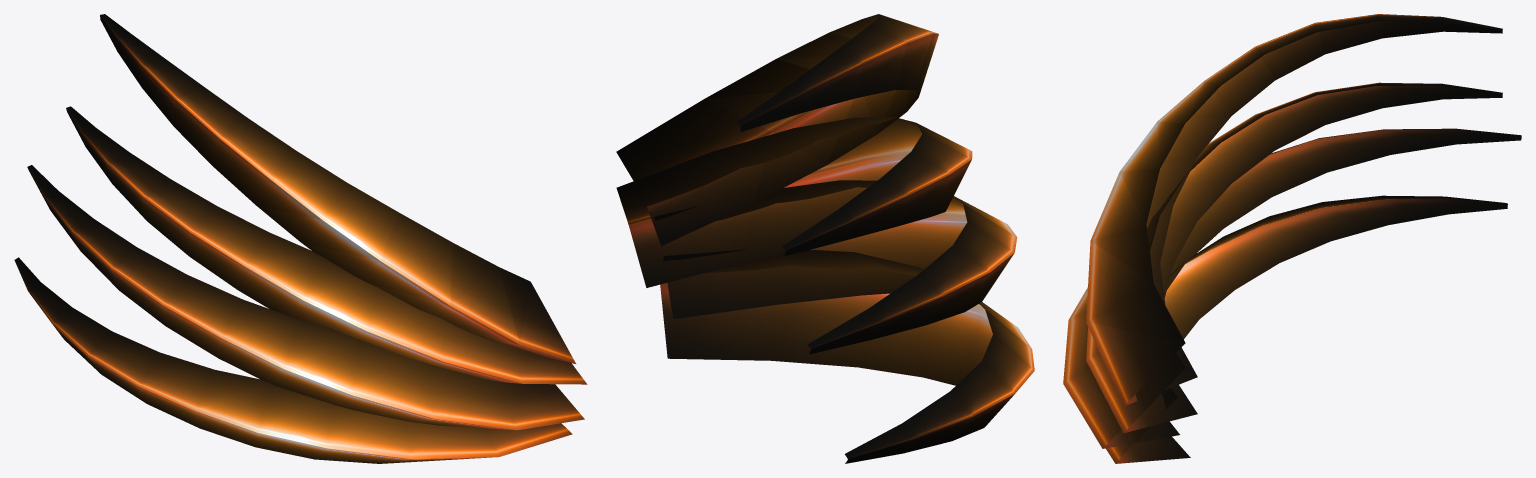
The model's file is zhua_1.FBX.
3 views of the same model, side by side, from view 1: azimuth 30°, elevation 25°; view 2: azimuth 150°, elevation 25°; view 3: azimuth 270°, elevation 25° (orthographic). The views are drawn at different scales.
Parts seen in each view (by area): view 1: model_3_attack1; view 2: model_3_attack1; view 3: model_3_attack1.
Part boxes in pixels (box(x1,y1,x2,y2)): model_3_attack1: box(14, 14, 587, 463); model_3_attack1: box(616, 14, 1034, 463); model_3_attack1: box(1063, 14, 1521, 463).
Bounding box in the file's own units: 43.52 × 37.34 × 46.47.
